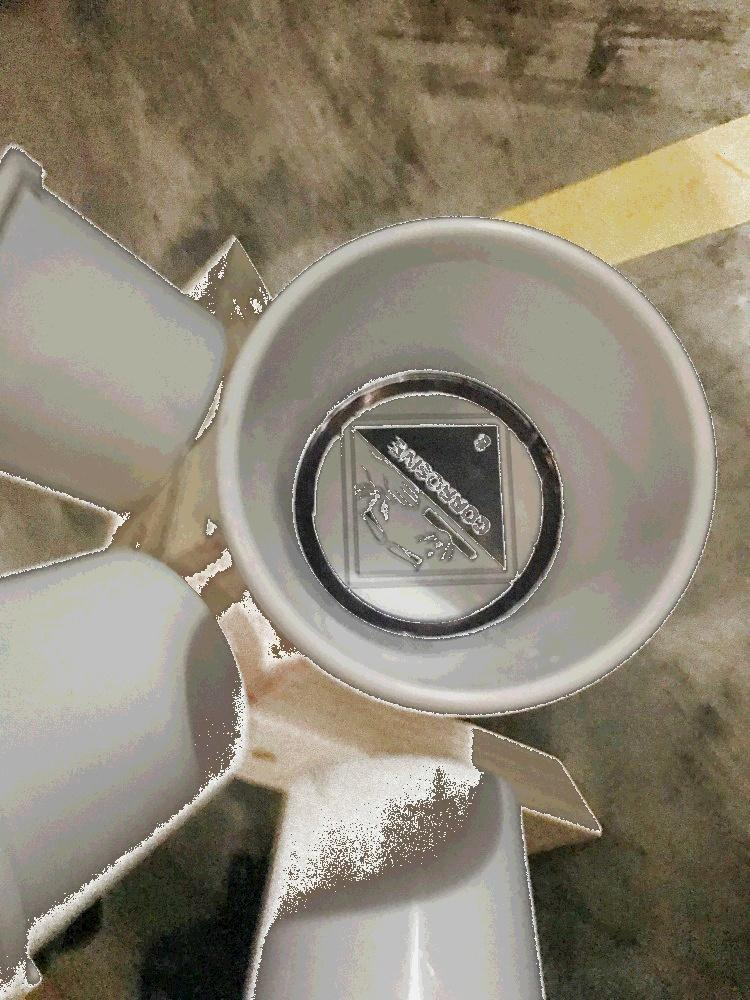corrosive: (338, 416, 522, 585)
